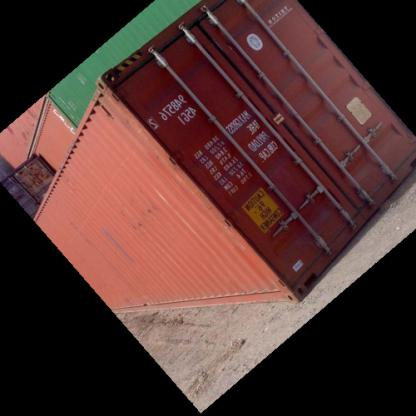Damage: (274, 222, 320, 276), (101, 226, 130, 264), (126, 202, 158, 228)
